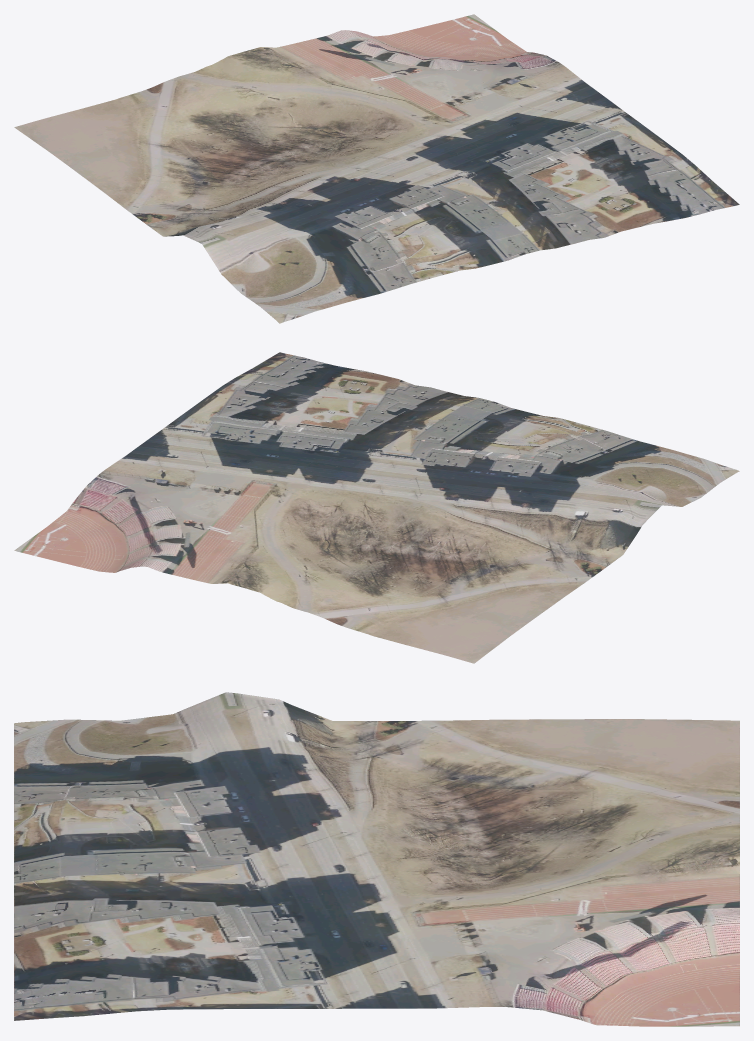
File: CM_Terrain_24487182_6820204.fbx
3 views of the same model, one above another, from view 1: azimuth 30°, elevation 25°; view 2: azimuth 150°, elevation 25°; view 3: azimuth 270°, elevation 25° (orthographic). The views are drawn at different scales.
Parts seen in each view (by area): view 1: CM_Terrain_24487182_6820204_LOD0; view 2: CM_Terrain_24487182_6820204_LOD0; view 3: CM_Terrain_24487182_6820204_LOD0.
Part boxes in pixels (x1=…): CM_Terrain_24487182_6820204_LOD0: x1=14, y1=14, x2=739, y2=323; CM_Terrain_24487182_6820204_LOD0: x1=14, y1=352, x2=739, y2=663; CM_Terrain_24487182_6820204_LOD0: x1=14, y1=692, x2=739, y2=1026.
Size of what is drawn, in the model's own units: 205 by 9.67 by 205.
